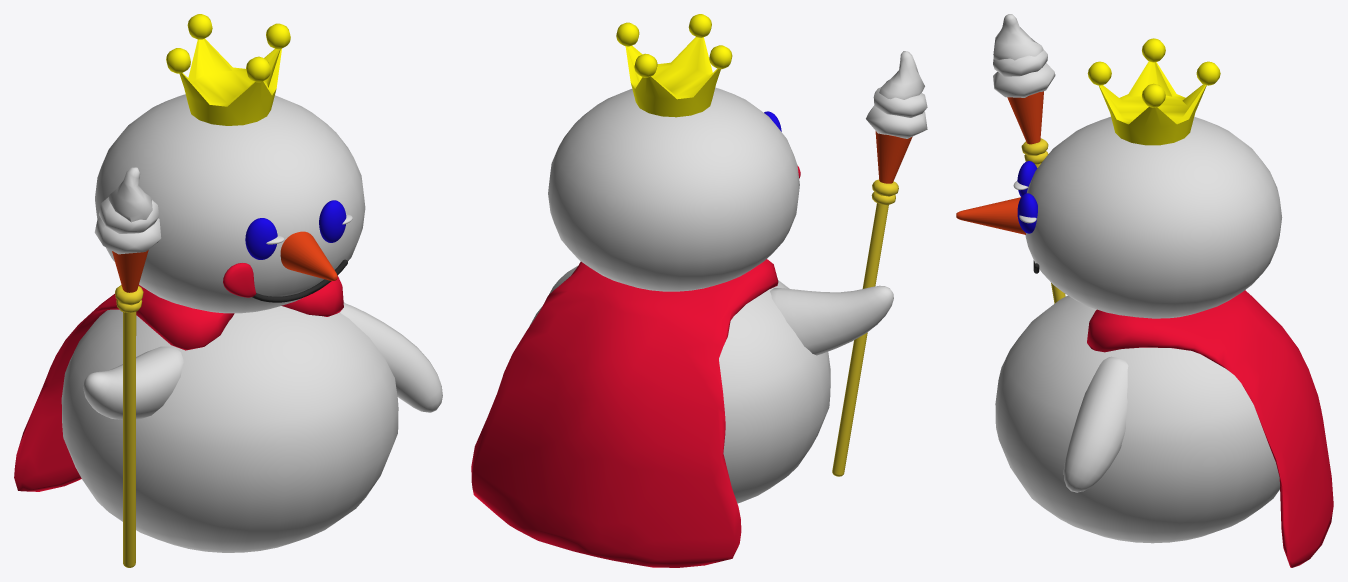
Rendered from mixue-mascot2.glb.
3 views of the same model, side by side, from view 1: azimuth 30°, elevation 25°; view 2: azimuth 150°, elevation 25°; view 3: azimuth 270°, elevation 25° (orthographic). The views are drawn at different scales.
Visible parts, largest first — view 1: mixue; view 2: mixue; view 3: mixue.
Boxes of the visible parts, x1=… form: mixue: x1=14, y1=14, x2=442, y2=567; mixue: x1=471, y1=14, x2=927, y2=567; mixue: x1=956, y1=14, x2=1333, y2=567.
Size of the model in its own units: 2.14 by 2.71 by 2.02.
